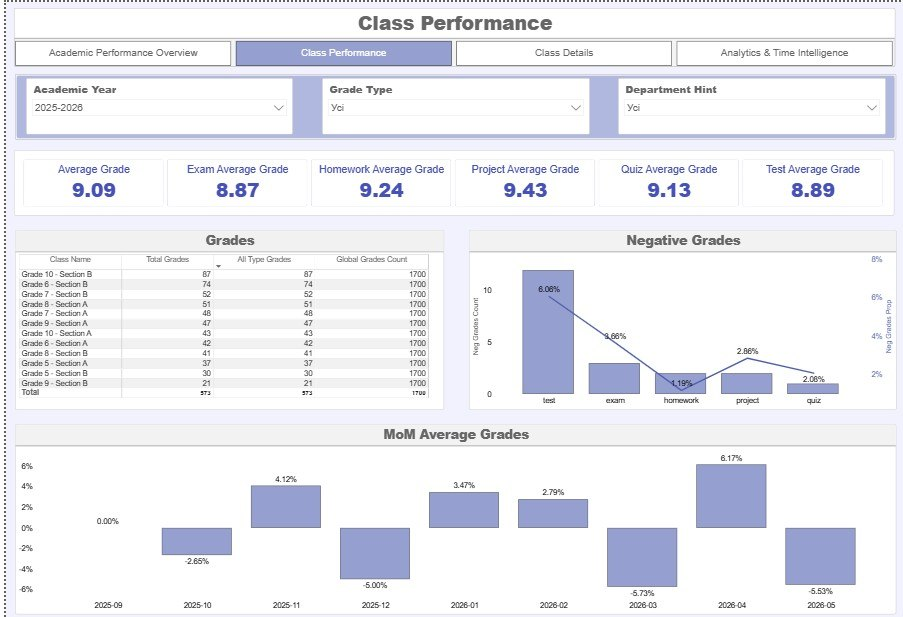

The page's visual inventory and layout, read from the dashboard file:
{"tool":"powerbi","page":{"name":"Class Performance","canvas":[1910,1320],"ordinal":1},"visuals":[{"type":"cardVisual","fields":{"Data":["_Measures.Average Grade","_Measures.Exam Average Grade","_Measures.Homework Average Grade","_Measures.Project Average Grade","_Measures.Quiz Average Grade","_Measures.Test Average Grade"]},"box":[17.5,315,1872.5,140],"z":0},{"type":"pivotTable","title":"Grades","fields":{"Values":["_Measures.Total Grades","_Measures.All Type Grade","_Measures.Global Grades Count"],"Rows":["classes.class_name"]},"box":[20,485,912.5,382.5],"z":1000},{"type":"lineClusteredColumnComboChart","title":"Negative Grades","fields":{"Y":["_Measures.Neg Grades Count"],"Y2":["_Measures.Neg Grades Prop"],"Category":["grades.grade_type"]},"box":[985,485,910,382.5],"z":2000},{"type":"clusteredColumnChart","title":"MoM Average Grades","fields":{"Y":["_Measures.MoM_AG%"],"Category":["Calendar.Year_Month"]},"box":[20,897.5,1875,405],"z":3000},{"type":"shape","box":[20,152.5,1875,140],"z":4000},{"type":"slicer","fields":{"Values":["grades.grade_type"]},"box":[672.5,162.5,570,120],"z":5000},{"type":"slicer","fields":{"Values":["subjects.department_hint"]},"box":[1302.5,162.5,570,120],"z":6000},{"type":"pageNavigator","title":"Class Performance","box":[17.6,13.7,1874.5,125],"z":7000},{"type":"slicer","fields":{"Values":["periods.academic_year"]},"box":[42.5,162.5,567.5,120],"z":8000}]}

Visuals, with their boxes in screenshot pixels (x1, y1, x2, y2), scaled from the page's 1910x1320 canvas onto the 903x617 screenshot:
cardVisual - _Measures.Average Grade x _Measures.Exam Average Grade: Rect(8, 147, 894, 213)
"Grades" pivotTable: Rect(9, 227, 441, 405)
"Negative Grades" lineClusteredColumnComboChart: Rect(466, 227, 896, 405)
"MoM Average Grades" clusteredColumnChart: Rect(9, 420, 896, 609)
shape: Rect(9, 71, 896, 137)
slicer - grades.grade_type: Rect(318, 76, 587, 132)
slicer - subjects.department_hint: Rect(616, 76, 885, 132)
"Class Performance" pageNavigator: Rect(8, 6, 895, 65)
slicer - periods.academic_year: Rect(20, 76, 288, 132)
